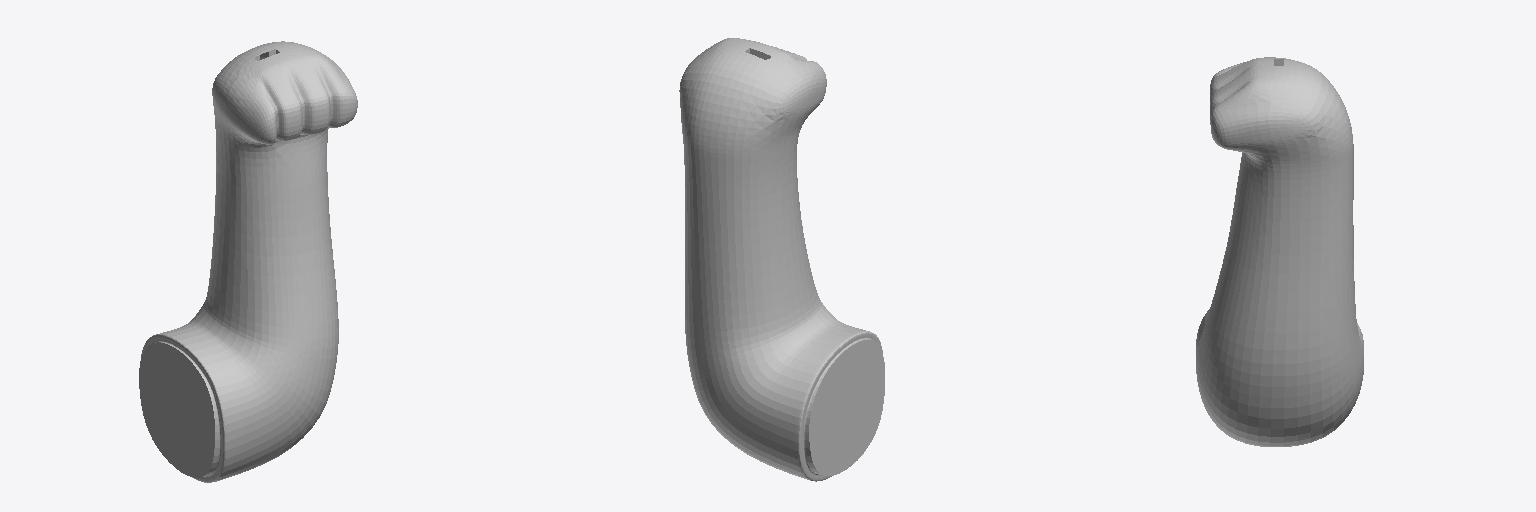
The model's file is arm_mit_loch.obj.
3 renders of one model, left to right at view 1: azimuth 30°, elevation 25°; view 2: azimuth 150°, elevation 25°; view 3: azimuth 270°, elevation 25°, orthographic.
Visible parts, largest first — view 1: maneki_neko_obj; view 2: maneki_neko_obj; view 3: maneki_neko_obj.
Part boxes in pixels (x1,y1,x2,y2): maneki_neko_obj: (139, 41, 357, 482); maneki_neko_obj: (679, 38, 884, 481); maneki_neko_obj: (1196, 57, 1363, 446).
Size of the model in its own units: 0.3527 by 0.8552 by 0.3259.